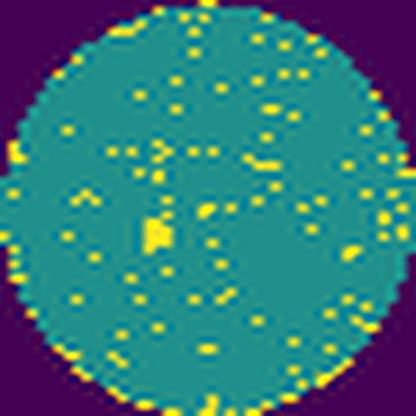Edge-Loc: (137, 217, 177, 253)
